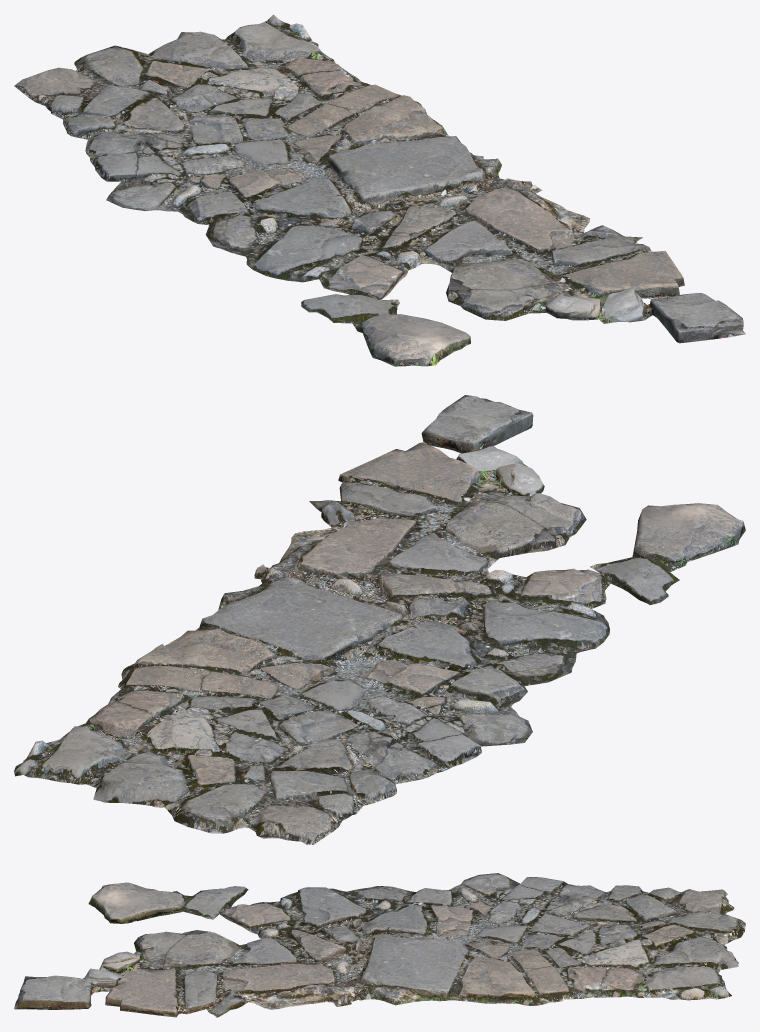
The model's file is sm_GroundStones_01_02.fbx.
3 views of the same model, one above another, from view 1: azimuth 30°, elevation 25°; view 2: azimuth 150°, elevation 25°; view 3: azimuth 270°, elevation 25° (orthographic). The views are drawn at different scales.
Visible parts, largest first — view 1: sm_GroundStones_01_02_LOD0; view 2: sm_GroundStones_01_02_LOD0; view 3: sm_GroundStones_01_02_LOD0.
Boxes of the visible parts, x1,y1,x2,y2 form: sm_GroundStones_01_02_LOD0: (14,14,745,366); sm_GroundStones_01_02_LOD0: (14,395,745,844); sm_GroundStones_01_02_LOD0: (14,873,745,1017).
Bounding box in the file's own units: 246 × 525 × 12.64.
